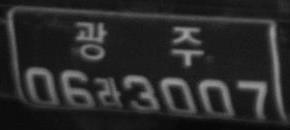0: (23, 64, 61, 107), (198, 76, 235, 119), (161, 75, 198, 115)
3: (124, 73, 161, 112)
6: (61, 66, 95, 110)
7: (235, 77, 270, 122)
광주_D: (72, 18, 205, 69)
라: (95, 74, 123, 110)
